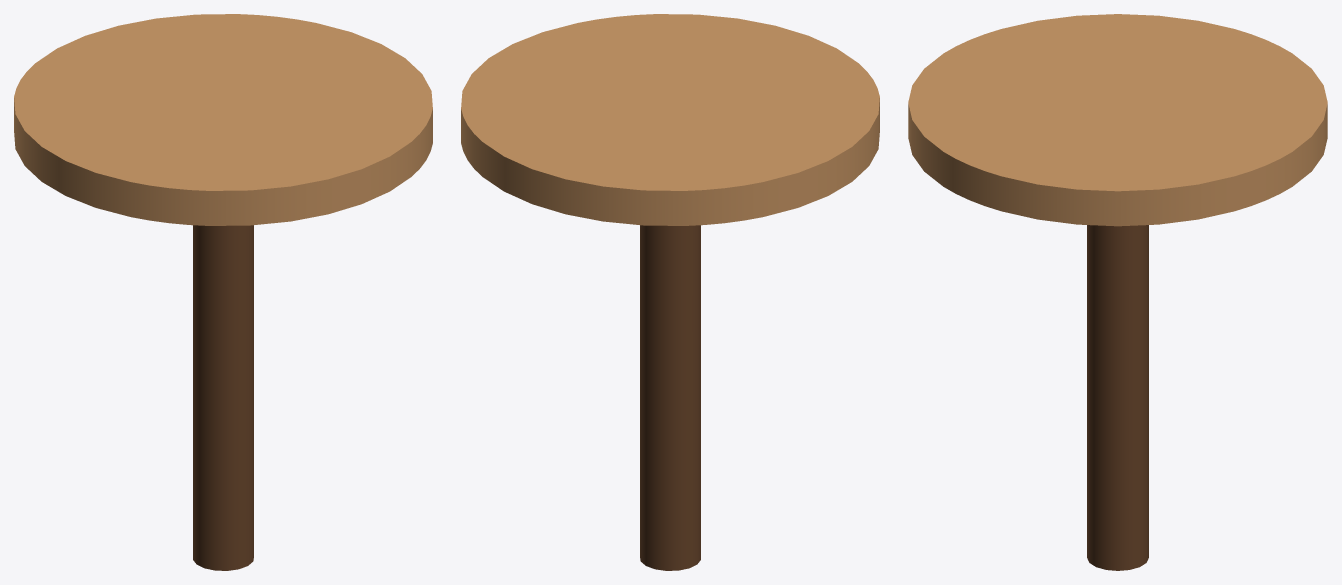
File: bedroom-reading-side-table.gltf
3 renders of one model, left to right at view 1: azimuth 30°, elevation 25°; view 2: azimuth 150°, elevation 25°; view 3: azimuth 270°, elevation 25°, orthographic.
Visible parts, largest first — view 1: Reading side table round top, Reading side table pedestal; view 2: Reading side table round top, Reading side table pedestal; view 3: Reading side table round top, Reading side table pedestal.
Part boxes in pixels (x1,y1,x2,y2): Reading side table round top: (14, 14, 432, 225); Reading side table pedestal: (193, 225, 253, 570); Reading side table round top: (461, 14, 879, 225); Reading side table pedestal: (640, 225, 700, 570); Reading side table round top: (908, 14, 1327, 226); Reading side table pedestal: (1087, 225, 1148, 570).
Bounding box in the file's own units: 0.38 × 0.455 × 0.38.
